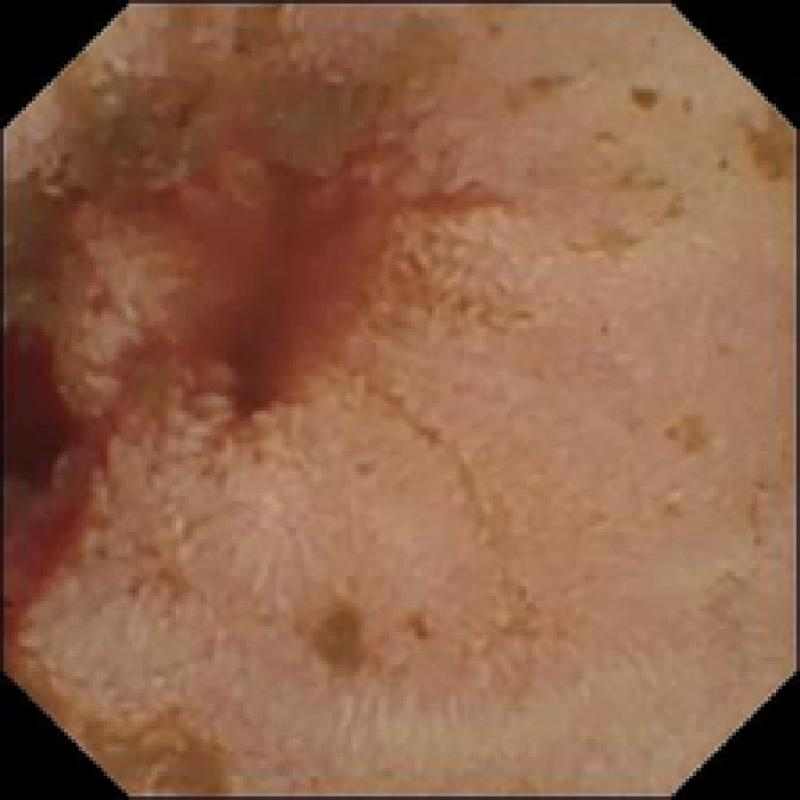bleeding: (0, 318, 107, 600)
